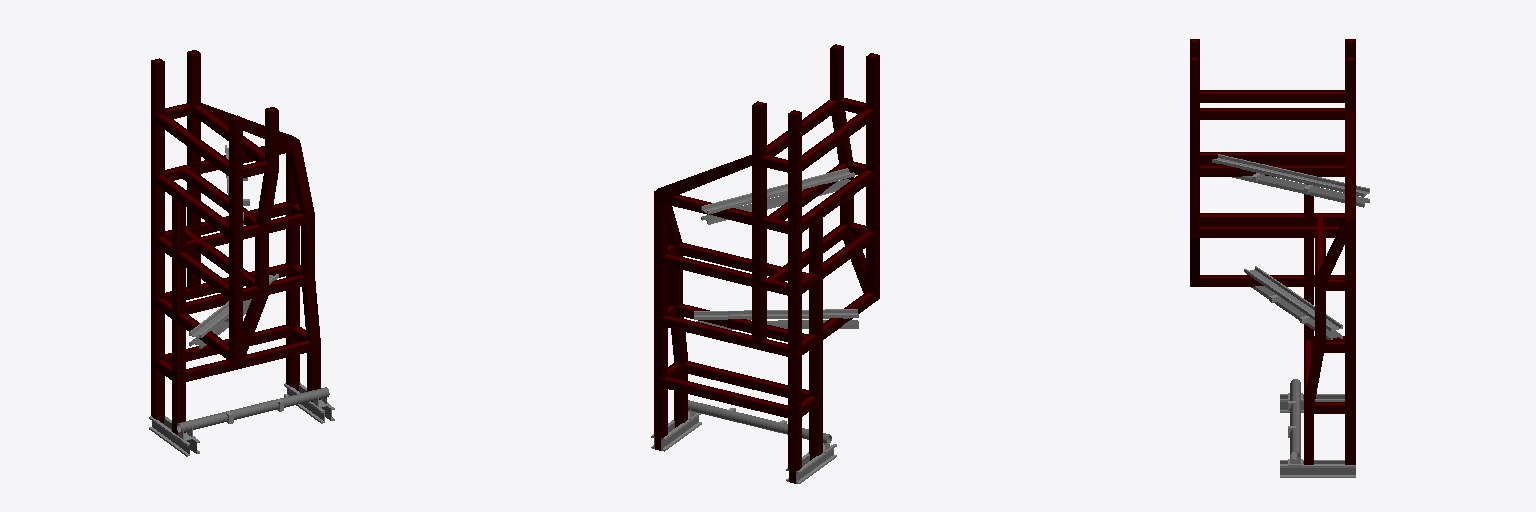
File: rmc_support_vertical_twist.obj
3 renders of one model, left to right at view 1: azimuth 30°, elevation 25°; view 2: azimuth 150°, elevation 25°; view 3: azimuth 270°, elevation 25°, orthographic.
Bounding box in the file's own units: 3.62 × 8.08 × 3.6.